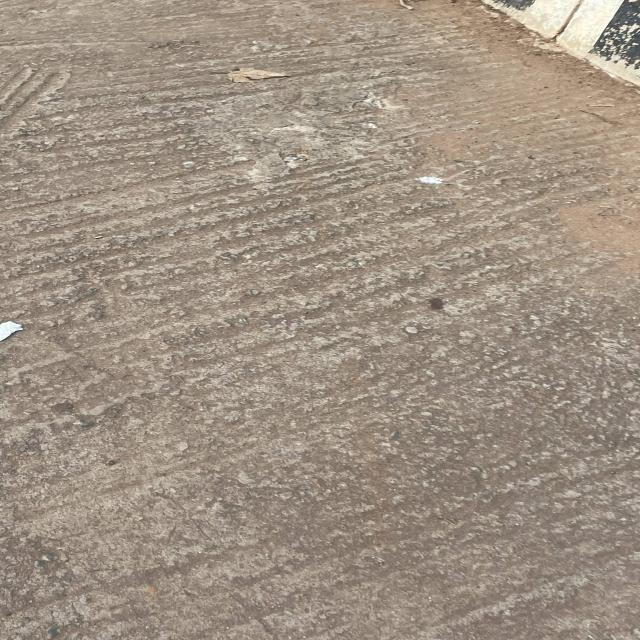D43: (129, 206, 537, 536)
